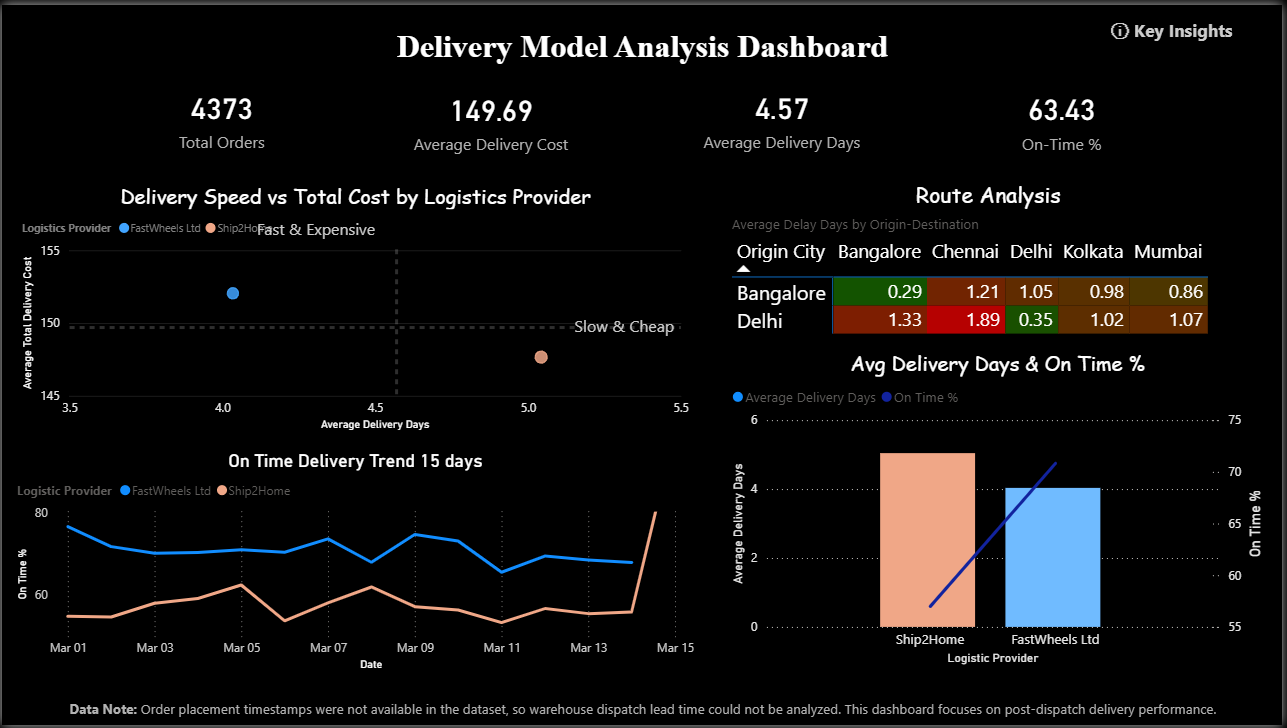

Layout of this report page (visuals, bound fields, positions):
{"tool":"powerbi","page":{"name":"Delivery Partner Analysis","canvas":[1280,720],"ordinal":0},"visuals":[{"type":"card","fields":{"Values":["Data.On Time %"]},"box":[920.3,66.3,279.8,95.7],"z":0},{"type":"card","fields":{"Values":["Data.AVG_DELIVERYDAY"]},"box":[640,65.6,280,95.6],"z":1000},{"type":"card","fields":{"Values":["Data.Avg_Total_Deliver_ Cost"]},"box":[348.5,66.3,281,96.9],"z":2000},{"type":"card","fields":{"Values":["Data.Total_Orders"]},"box":[80,65.6,280,95.6],"z":3000},{"type":"scatterChart","title":"Delivery Speed vs Total Cost by Logistics Provider","fields":{"Category":["Data.logistics_provider_id"],"X":["Data.AVG_DELIVERYDAY"],"Y":["Data.Avg_Total_Deliver_ Cost"],"Series":["Data.logistics_provider_id"],"Size":["Data.Total_Orders"]},"box":[14.9,175.9,677,254],"z":4000},{"type":"textbox","box":[249.6,207.9,135.6,36.1],"z":5000},{"type":"textbox","box":[567,304.6,125.5,39],"z":6000},{"type":"pivotTable","title":"Route Analysis","fields":{"Rows":["Data.origin_city"],"Columns":["Data.destination_city.1"],"Values":["Avg(Data.Delay Days)"]},"box":[725.2,175.5,522.7,168.1],"z":7000},{"type":"lineClusteredColumnComboChart","title":"Avg Delivery Days & On Time %","fields":{"Category":["Data.logistics_provider_id"],"Y":["Data.AVG_DELIVERYDAY"],"Y2":["Data.On Time %"]},"box":[725.3,343.7,541.4,320.7],"z":8000},{"type":"lineChart","title":"On Time Delivery Trend 15 days","fields":{"Category":["Data.dispatch_date"],"Y":["Data.On Time %"],"Series":["Data.logistics_provider_id"]},"box":[14.9,444.8,677,220.7],"z":9000},{"type":"textbox","box":[369,17.2,543.7,49.4],"z":10000},{"type":"textbox","box":[62.2,690,1170,30],"z":11000},{"type":"actionButton","box":[1060.1,0,219.6,49.1],"z":15000}]}

Visuals, with their boxes in screenshot pixels (x1, y1, x2, y2), scaled from the page's 1280x720 canvas onto the 1287x728 screenshot:
card - Data.On Time %: 925,67,1207,164
card - Data.AVG_DELIVERYDAY: 644,66,925,163
card - Data.Avg_Total_Deliver_ Cost: 350,67,633,165
card - Data.Total_Orders: 80,66,362,163
"Delivery Speed vs Total Cost by Logistics Provider" scatterChart: 15,178,696,435
textbox: 251,210,387,247
textbox: 570,308,696,347
"Route Analysis" pivotTable: 729,177,1255,347
"Avg Delivery Days & On Time %" lineClusteredColumnComboChart: 729,348,1274,672
"On Time Delivery Trend 15 days" lineChart: 15,450,696,673
textbox: 371,17,918,67
textbox: 63,698,1239,727
actionButton: 1066,0,1286,50
